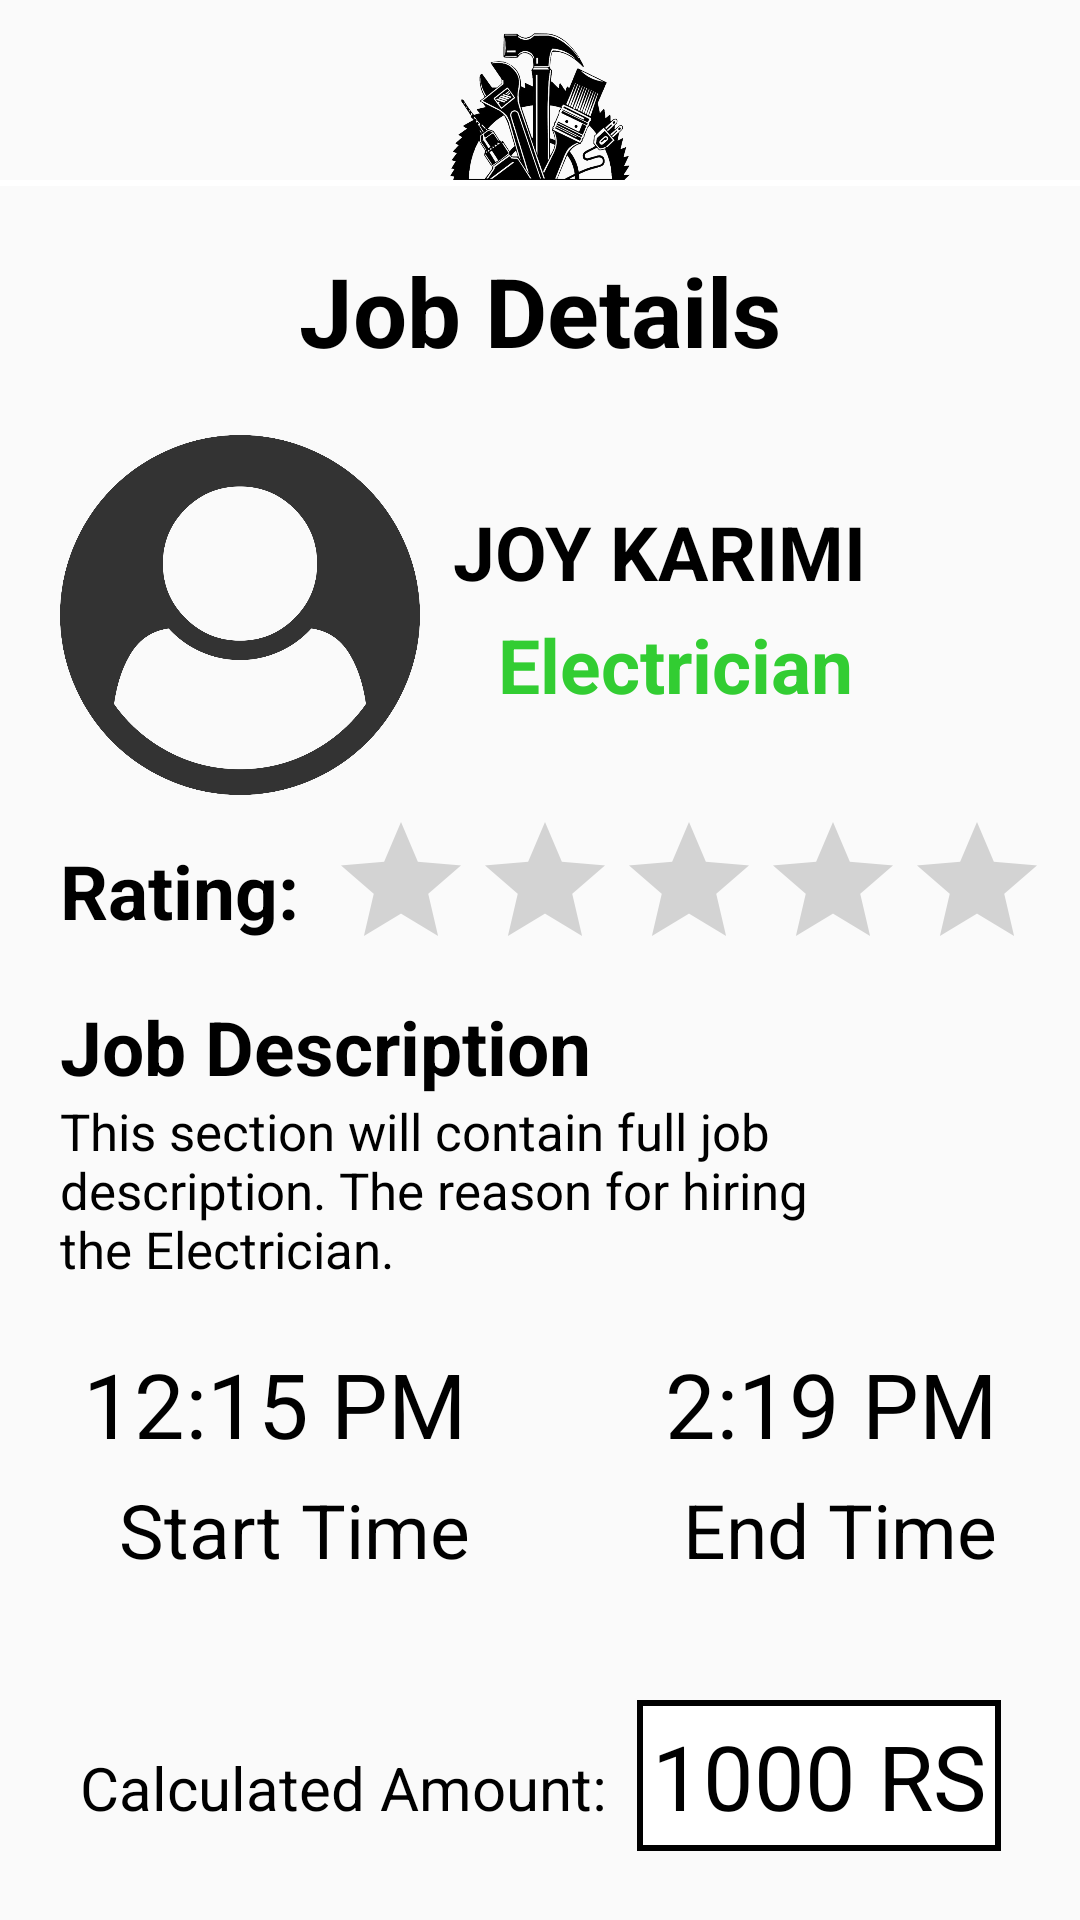

Where icons sit on this 1080x1920 app screen, as (x1, y1, x2, y2):
profilepic: (60, 435, 420, 795)
